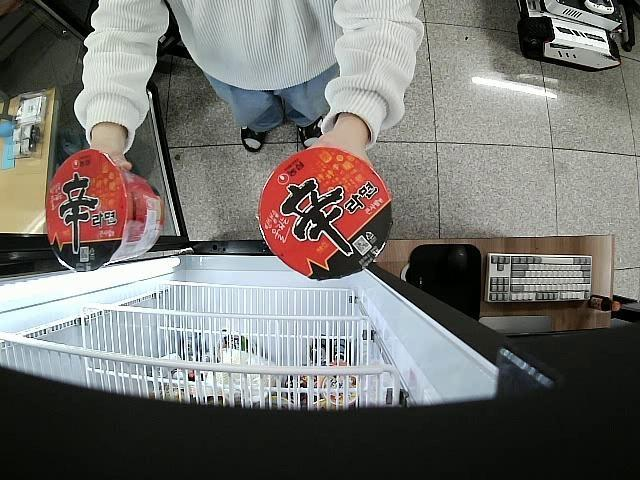01_ShinRamen_L: (259, 148, 392, 282), (44, 147, 162, 272)
